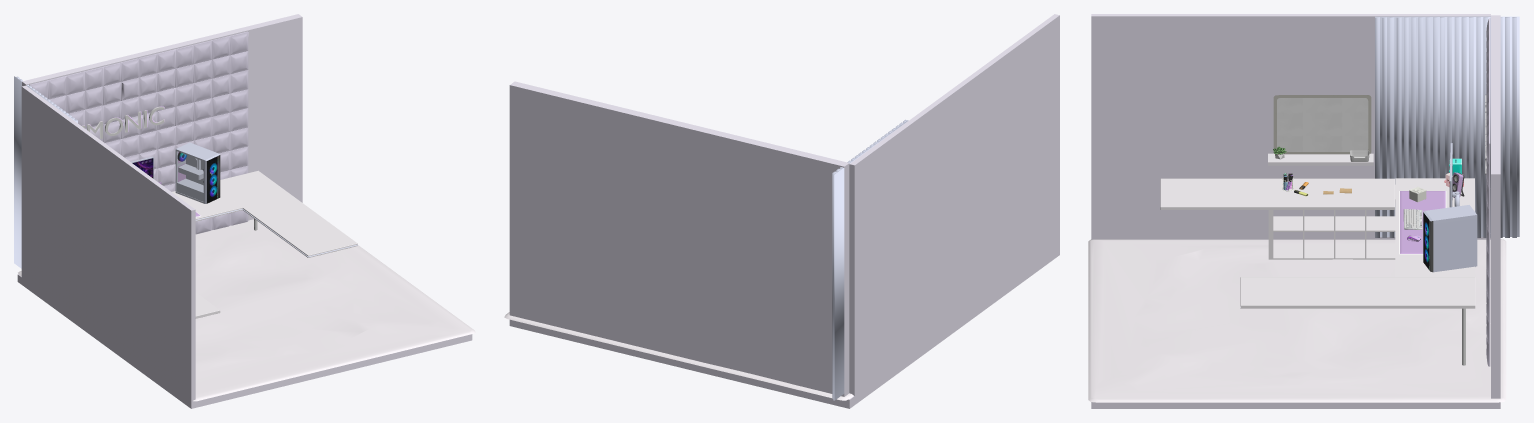
The model's file is isometric-girl-room.glb.
The picture shows the model from 3 angles, left to right: view 1: azimuth 30°, elevation 25°; view 2: azimuth 150°, elevation 25°; view 3: azimuth 270°, elevation 25°; orthographic projection. The views are drawn at different scales.
Parts seen in each view (by area): view 1: Room Isometric(Turn on for world lighting), Carpet, Panel, Side TableTop.001, Acoustic wood_block.001, Object_4.013, Glass panel, Main TableTop, Object_6.010, Text example; view 2: Room Isometric(Turn on for world lighting), Acoustic wood_block.001, Carpet; view 3: Room Isometric(Turn on for world lighting), Carpet, Acoustic wood_block.001, Side TableTop.001, Side TableTop.002, CommunityCanvasWhiteboard, Cube Shelf, Object_4.013, Main TableTop, Panel, MousePAd, Shelf 1 (+2 smaller).
Part boxes in pixels (x1=…): Room Isometric(Turn on for world lighting): x1=17, y1=14, x2=472, y2=408; Carpet: x1=18, y1=219, x2=475, y2=401; Panel: x1=29, y1=31, x2=248, y2=234; Side TableTop.001: x1=220, y1=170, x2=357, y2=257; Acoustic wood_block.001: x1=14, y1=76, x2=77, y2=268; Object_4.013: x1=175, y1=142, x2=219, y2=203; Glass panel: x1=176, y1=150, x2=203, y2=202; Main TableTop: x1=172, y1=191, x2=242, y2=221; Object_6.010: x1=177, y1=152, x2=220, y2=203; Text example: x1=82, y1=106, x2=164, y2=138; Room Isometric(Turn on for world lighting): x1=509, y1=14, x2=1059, y2=408; Acoustic wood_block.001: x1=832, y1=119, x2=908, y2=400; Carpet: x1=504, y1=312, x2=853, y2=400; Room Isometric(Turn on for world lighting): x1=1091, y1=14, x2=1500, y2=408; Carpet: x1=1088, y1=239, x2=1506, y2=402; Acoustic wood_block.001: x1=1375, y1=16, x2=1519, y2=237; Side TableTop.001: x1=1240, y1=277, x2=1475, y2=308; Side TableTop.002: x1=1160, y1=178, x2=1394, y2=209; CommunityCanvasWhiteboard: x1=1277, y1=98, x2=1368, y2=151; Cube Shelf: x1=1268, y1=185, x2=1395, y2=259; Object_4.013: x1=1423, y1=205, x2=1477, y2=272; Main TableTop: x1=1395, y1=178, x2=1474, y2=276; Panel: x1=1486, y1=18, x2=1490, y2=366; MousePAd: x1=1399, y1=191, x2=1446, y2=254; Shelf 1: x1=1268, y1=153, x2=1373, y2=165.
Size of the model in its own units: 1.61 by 1.08 by 1.79.
62 materials, 12 textured.
